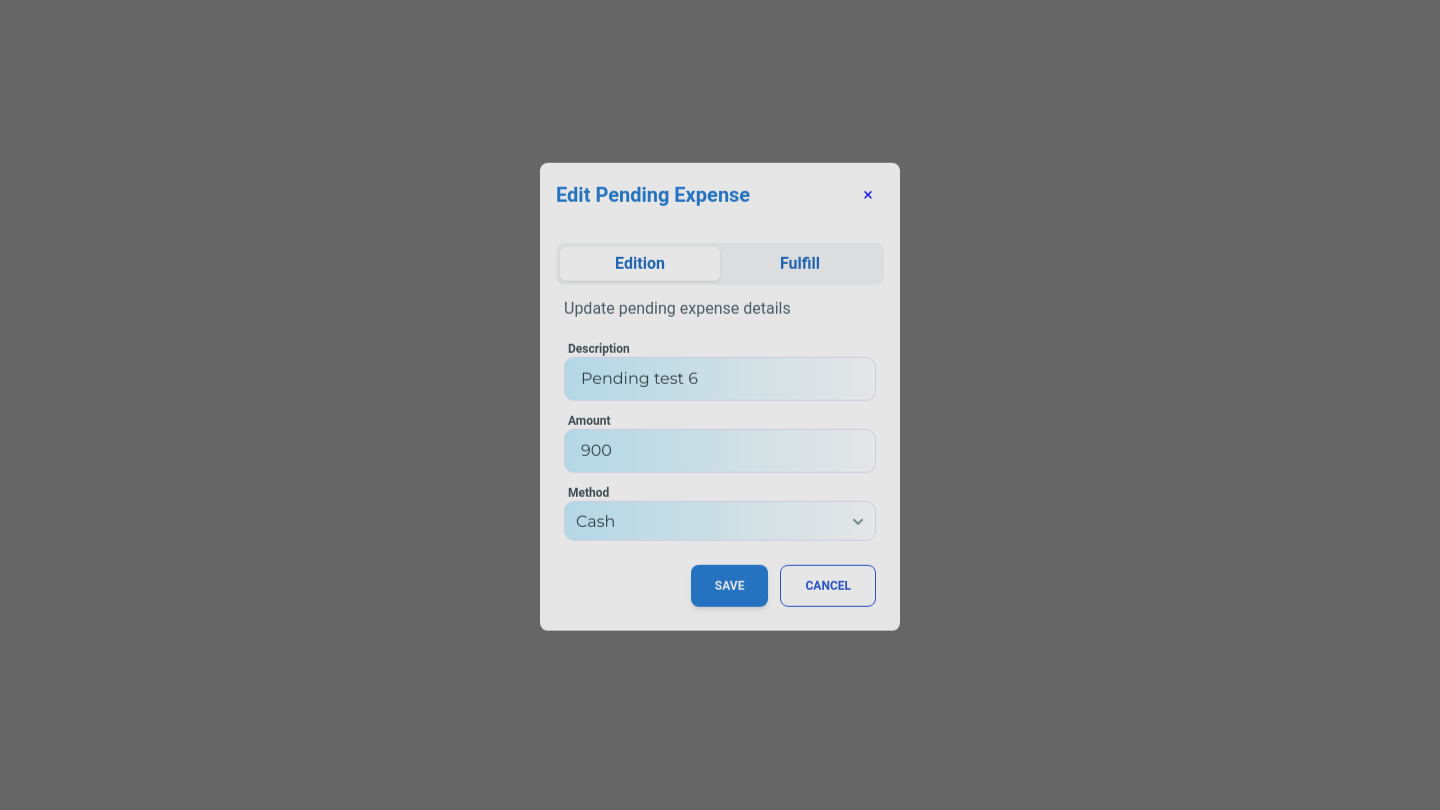
Test: Edit Pending Expense › Validations › should display wrong entries validations
This screenshot has width=1440, height=810.
Clear the field labelled "Description" at (720, 379), box 564,357 -> 876,401
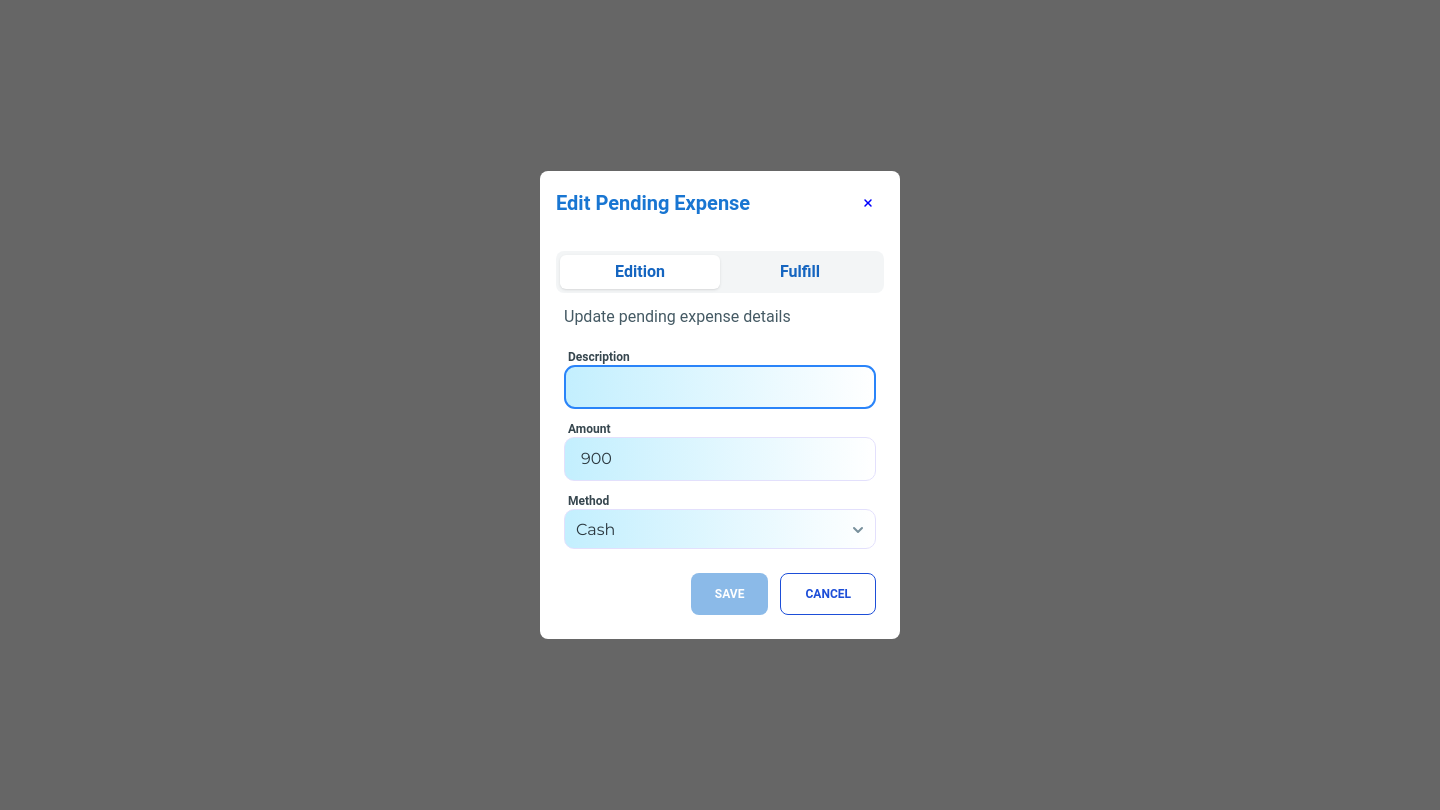
Type "A" into the field labelled "Description" at (720, 387), box 564,365 -> 876,409
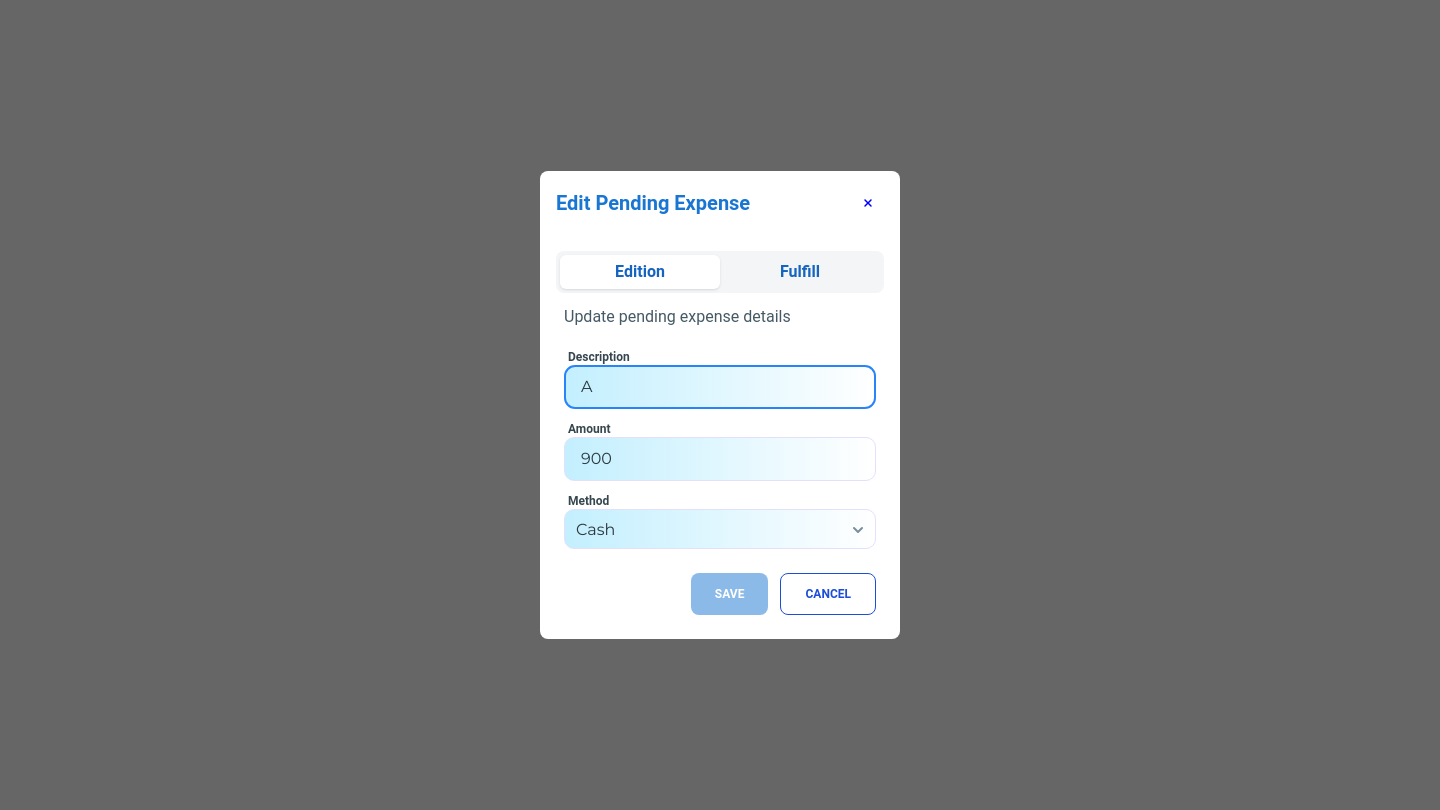
Clear the number field labelled "Amount" at (720, 459), box 564,437 -> 876,481
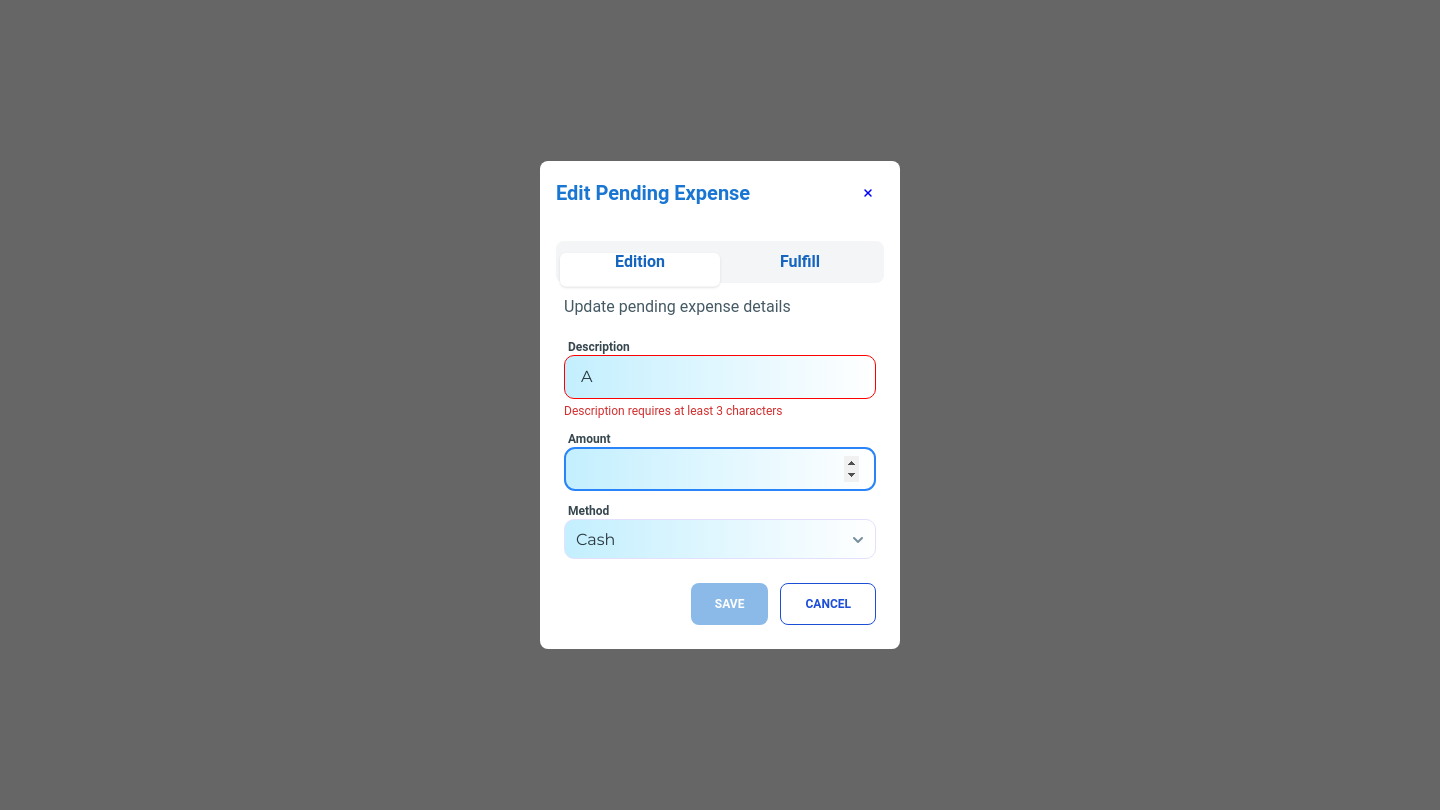
Type "-1" into the number field labelled "Amount" at (720, 469), box 564,447 -> 876,491
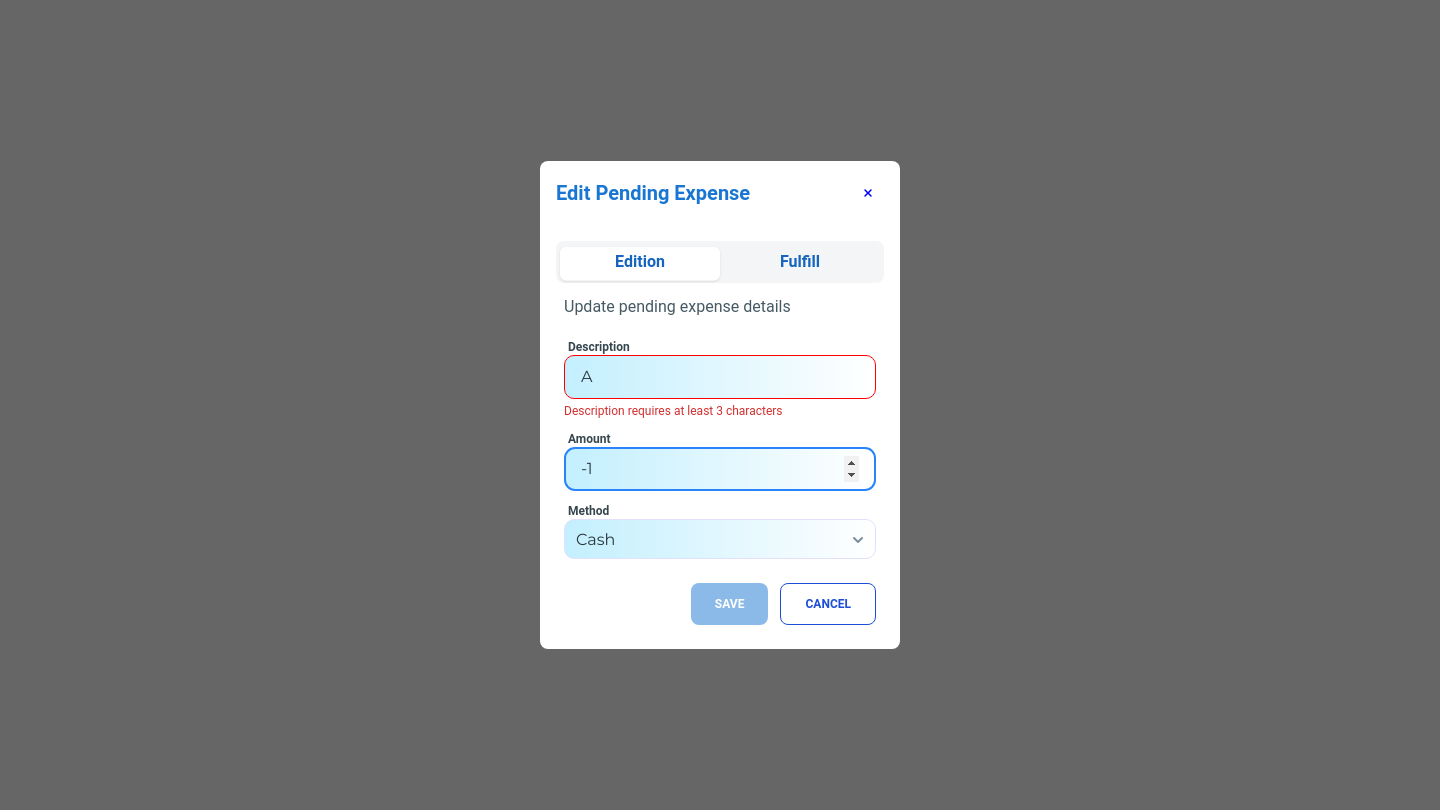
Press Tab
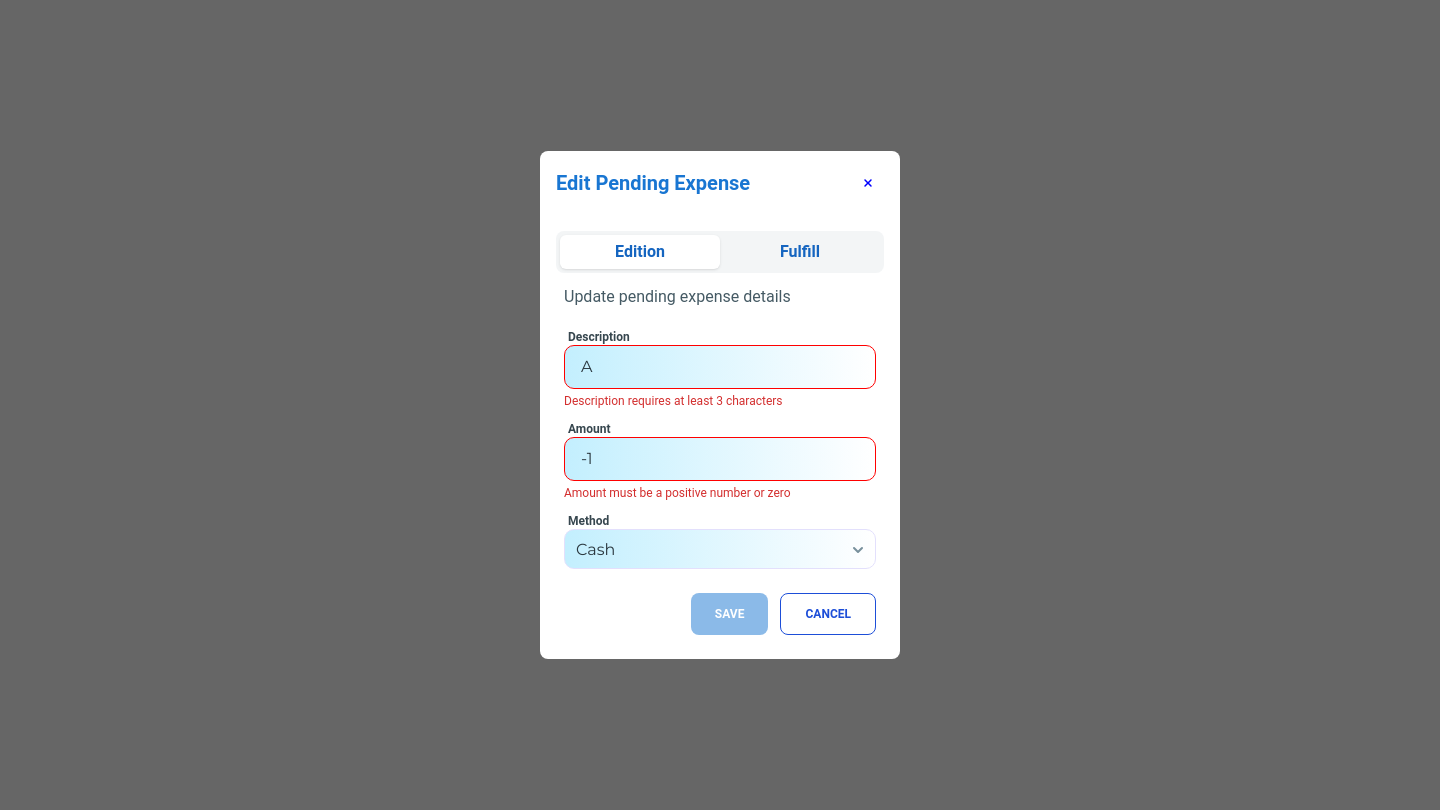
Check: the message "Description requires at least 3 characters" is shown, box 564,394 -> 783,408
Check: the number of messages is 2, box 564,394 -> 783,408; 564,486 -> 791,500
Check: the message "Amount must be a positive number or zero" is shown, box 564,486 -> 791,500
